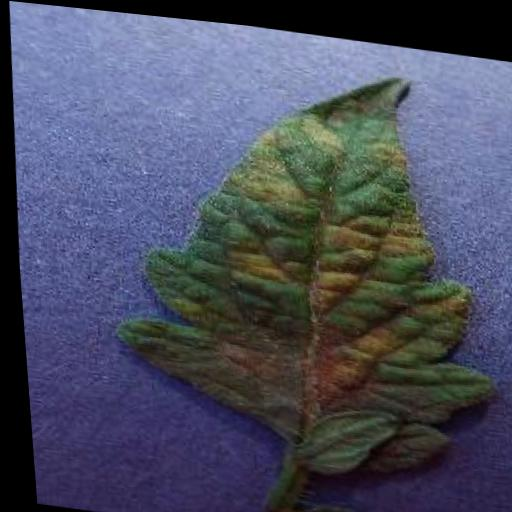Leaf Mold: (93, 31, 509, 486)
